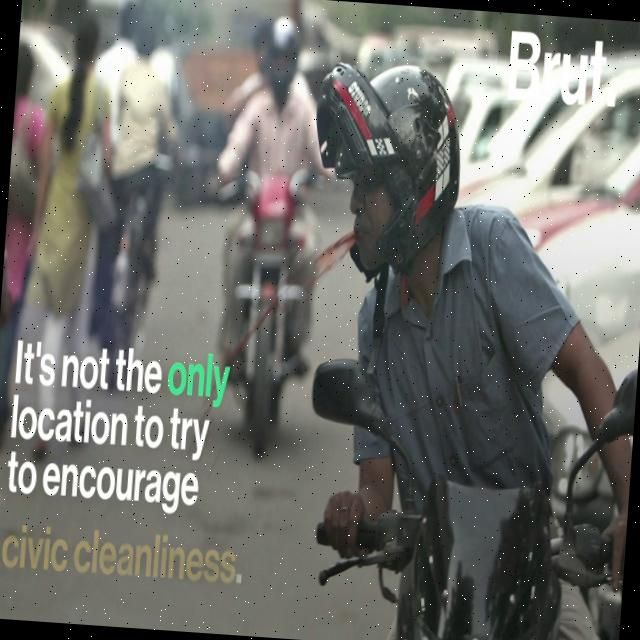spit: (185, 193, 395, 391)
